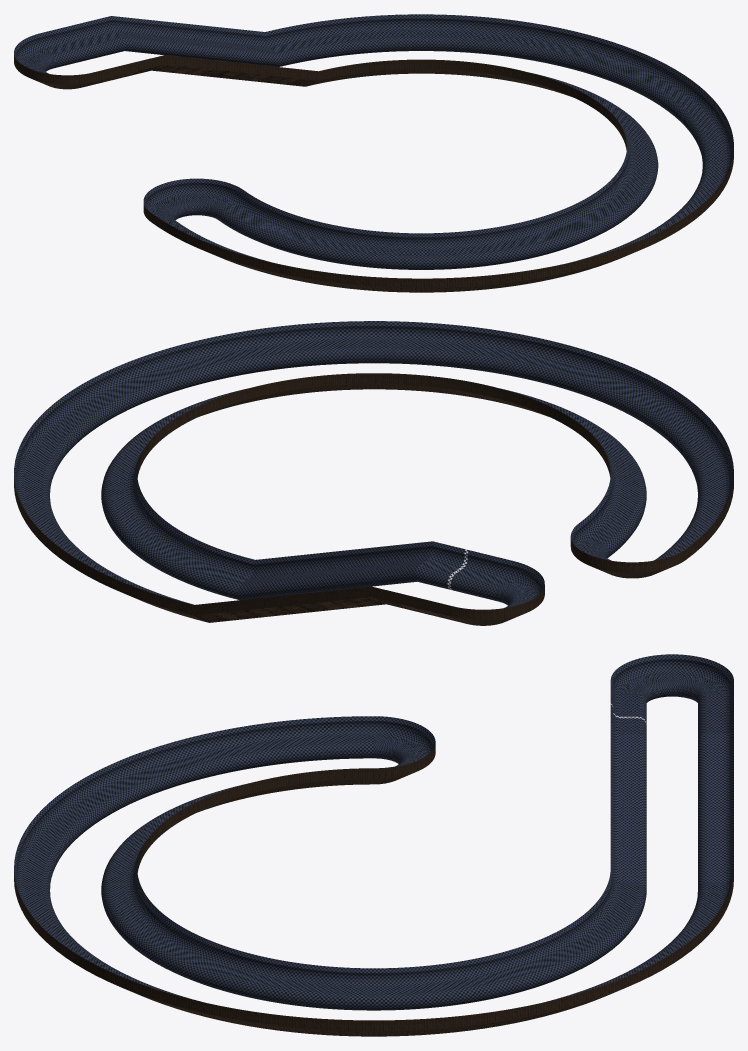
3 renders of one model, top to bottom at view 1: azimuth 30°, elevation 25°; view 2: azimuth 150°, elevation 25°; view 3: azimuth 270°, elevation 25°, orthographic. The views are drawn at different scales.
Parts seen in each view (by area): view 1: course-COM-2_FLOOR_2-84403-gxmat21png, course-COM-2_FLOOR_2-84403-gxmat32png; view 2: course-COM-2_FLOOR_2-84403-gxmat21png, course-COM-2_FLOOR_2-84403-gxmat32png; view 3: course-COM-2_FLOOR_2-84403-gxmat21png, course-COM-2_FLOOR_2-84403-gxmat32png.
Boxes of the visible parts, x1,y1,x2,y2 form: course-COM-2_FLOOR_2-84403-gxmat21png: (14,14,733,269); course-COM-2_FLOOR_2-84403-gxmat32png: (14,54,733,292); course-COM-2_FLOOR_2-84403-gxmat21png: (14,321,733,607); course-COM-2_FLOOR_2-84403-gxmat32png: (14,373,733,625); course-COM-2_FLOOR_2-84403-gxmat21png: (14,654,733,1010); course-COM-2_FLOOR_2-84403-gxmat32png: (14,743,733,1036).
Size of the model in its own units: 150175 by 20944 by 150175.
Materials: 3 (3 with a texture image).
